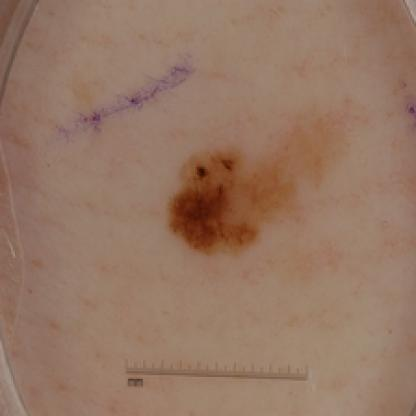malignant: (171, 145, 317, 278)
